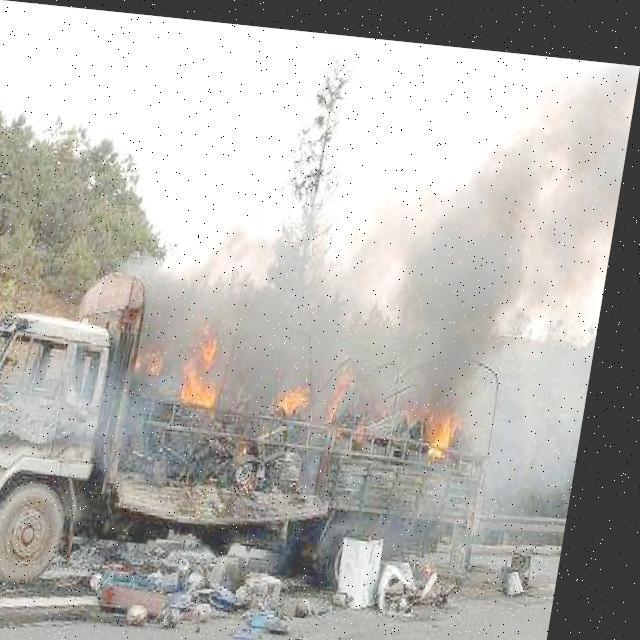Fire: (148, 308, 248, 408), (278, 350, 380, 429), (421, 387, 477, 452)
